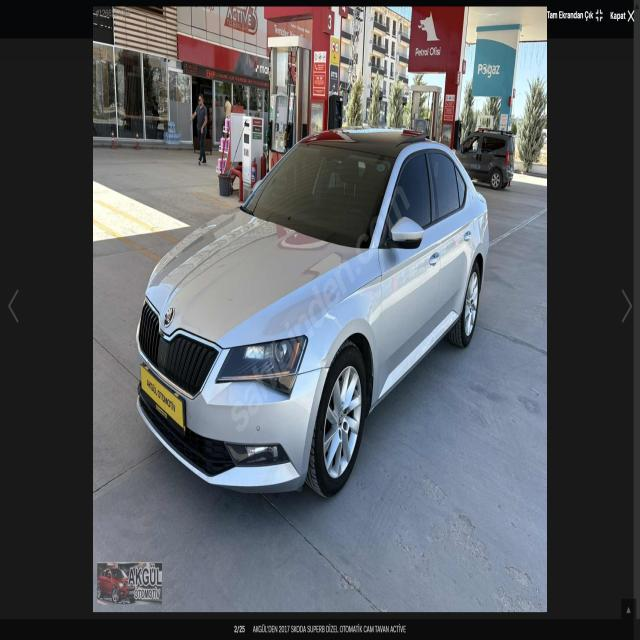skoda: (163, 306, 176, 328)
